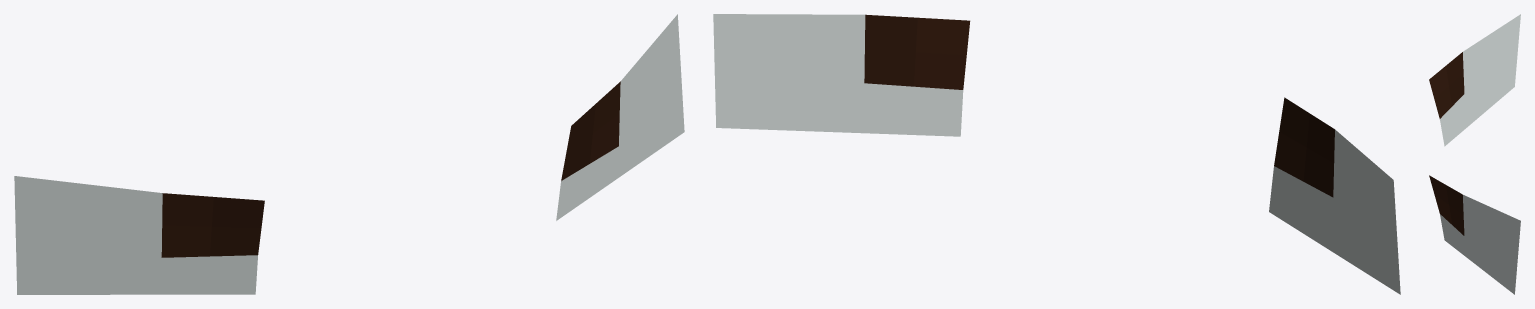
File: yeux_02.fbx
The picture shows the model from 3 angles, left to right: view 1: azimuth 30°, elevation 25°; view 2: azimuth 150°, elevation 25°; view 3: azimuth 270°, elevation 25°; orthographic projection. The views are drawn at different scales.
Parts seen in each view (by area): view 1: Cube.001; view 2: Cube.001; view 3: Cube.001.
Boxes of the visible parts, x1=… form: Cube.001: x1=14, y1=14, x2=684, y2=294; Cube.001: x1=713, y1=14, x2=1400, y2=294; Cube.001: x1=1429, y1=14, x2=1520, y2=294.
Bounding box in the file's own units: 114 × 19.45 × 21.3.
